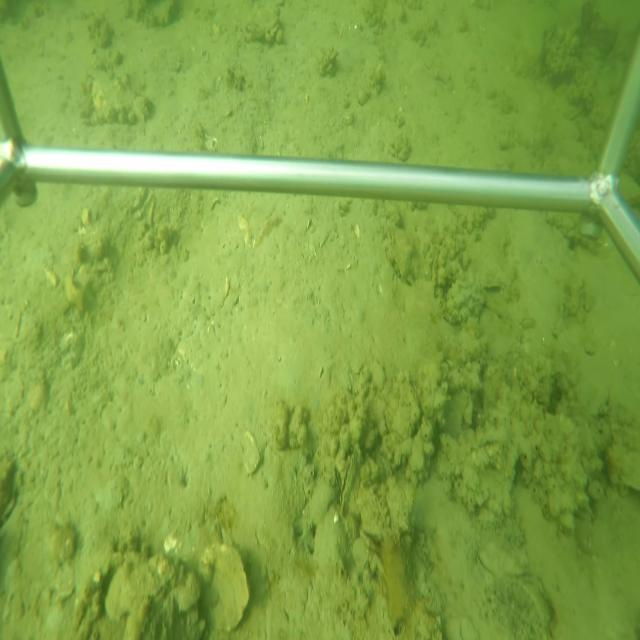Oyster-Closed: (107, 551, 182, 626), (338, 444, 360, 515)
Oyster-Indeterminate: (203, 543, 251, 635), (91, 67, 152, 126), (384, 225, 412, 282)
